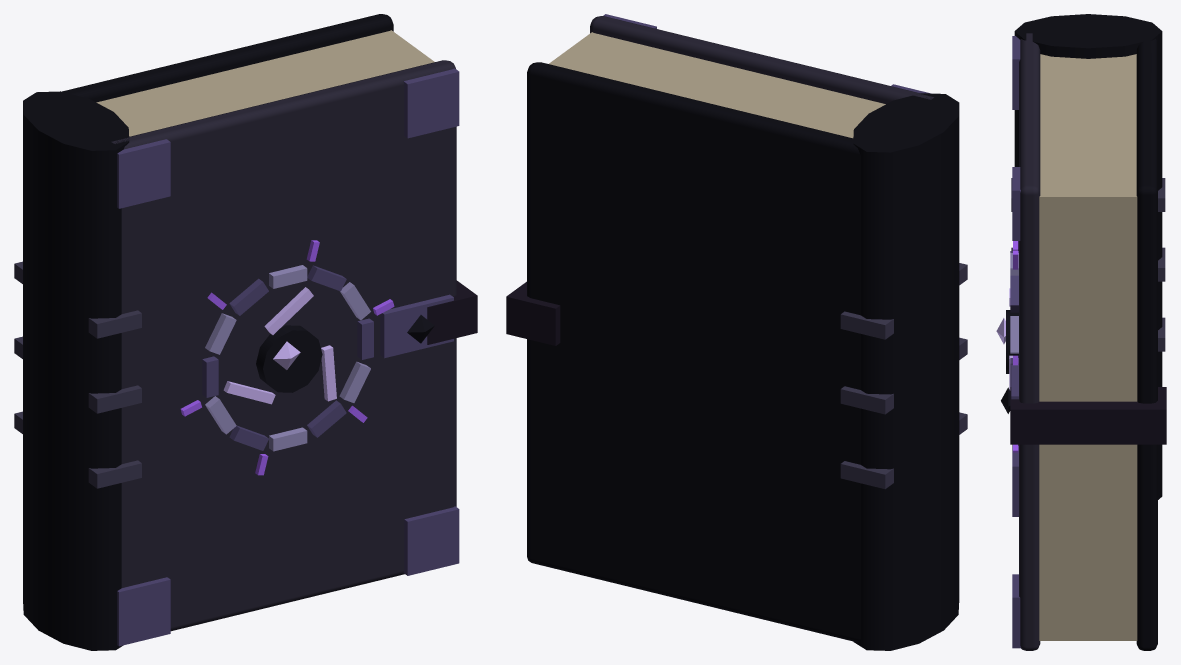
The model's file is tome_voidbound.glb.
3 views of the same model, side by side, from view 1: azimuth 30°, elevation 25°; view 2: azimuth 150°, elevation 25°; view 3: azimuth 270°, elevation 25° (orthographic). The views are drawn at different scales.
Visible parts, largest first — view 1: InscriptionTomeVoidbound_TomeOpaque, InscriptionTomeVoidbound_TomeMetal; view 2: InscriptionTomeVoidbound_TomeOpaque; view 3: InscriptionTomeVoidbound_TomeOpaque, InscriptionTomeVoidbound_TomeMetal.
Part boxes in pixels (x1,y1,x2,y2): InscriptionTomeVoidbound_TomeOpaque: (14, 14, 477, 650); InscriptionTomeVoidbound_TomeMetal: (117, 68, 459, 646); InscriptionTomeVoidbound_TomeOpaque: (506, 16, 967, 650); InscriptionTomeVoidbound_TomeOpaque: (1010, 14, 1166, 650); InscriptionTomeVoidbound_TomeMetal: (996, 36, 1020, 648).
Size of the model in its own units: 0.399 by 0.48 by 0.159.
